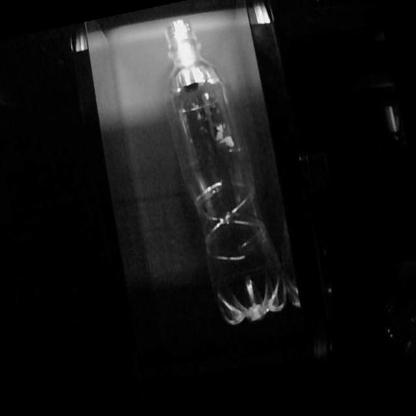Plastic Bottle: (168, 20, 298, 324)
